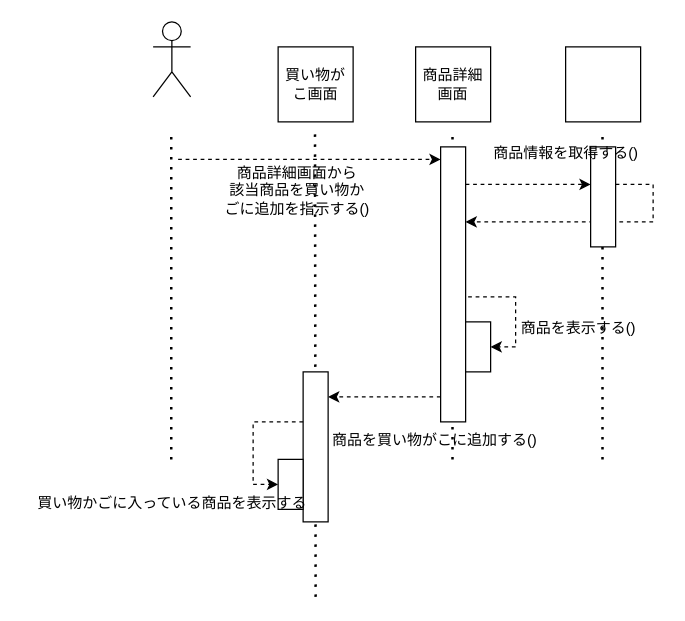
Image size: 685x621. Some labels were removed from this diagram. The centre of each missing label's shape, as x and y in pixels:
一般ユーザー: point 171,59
商品: point 602,84
